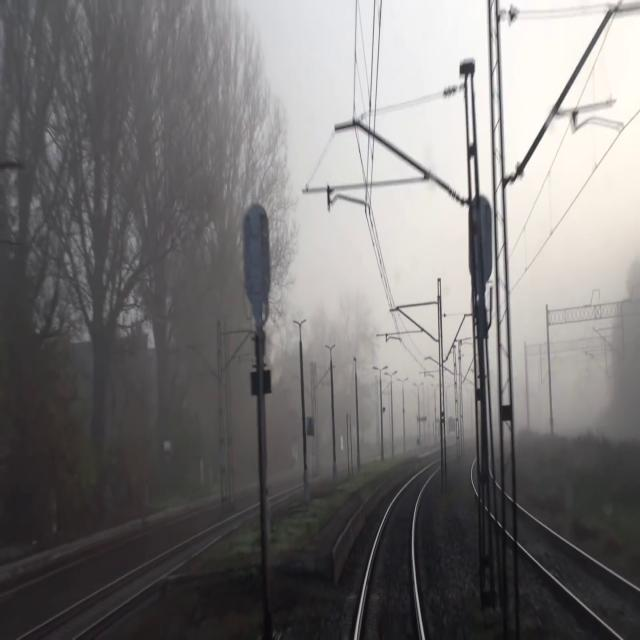rail-track: (28, 527, 225, 639), (516, 510, 640, 639), (359, 471, 429, 639)
